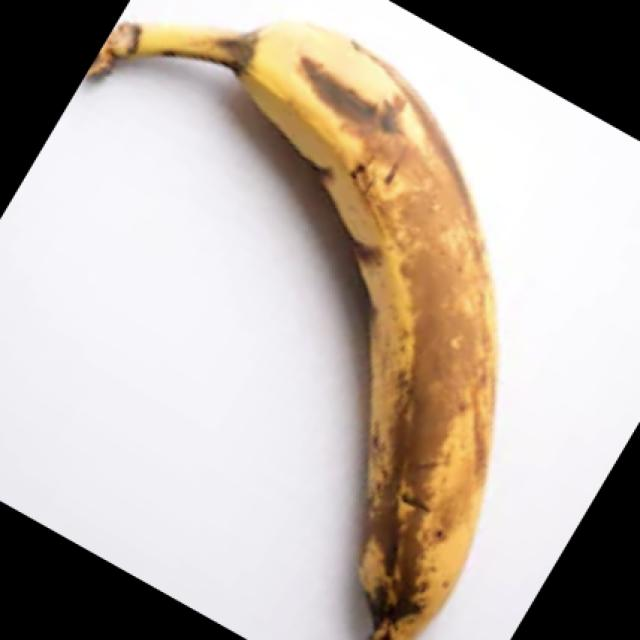overripe: (138, 19, 506, 640)
